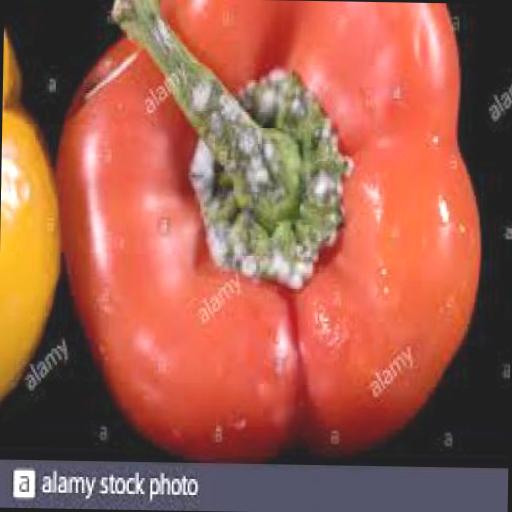biodegradable: (49, 0, 484, 457), (0, 22, 61, 397)
